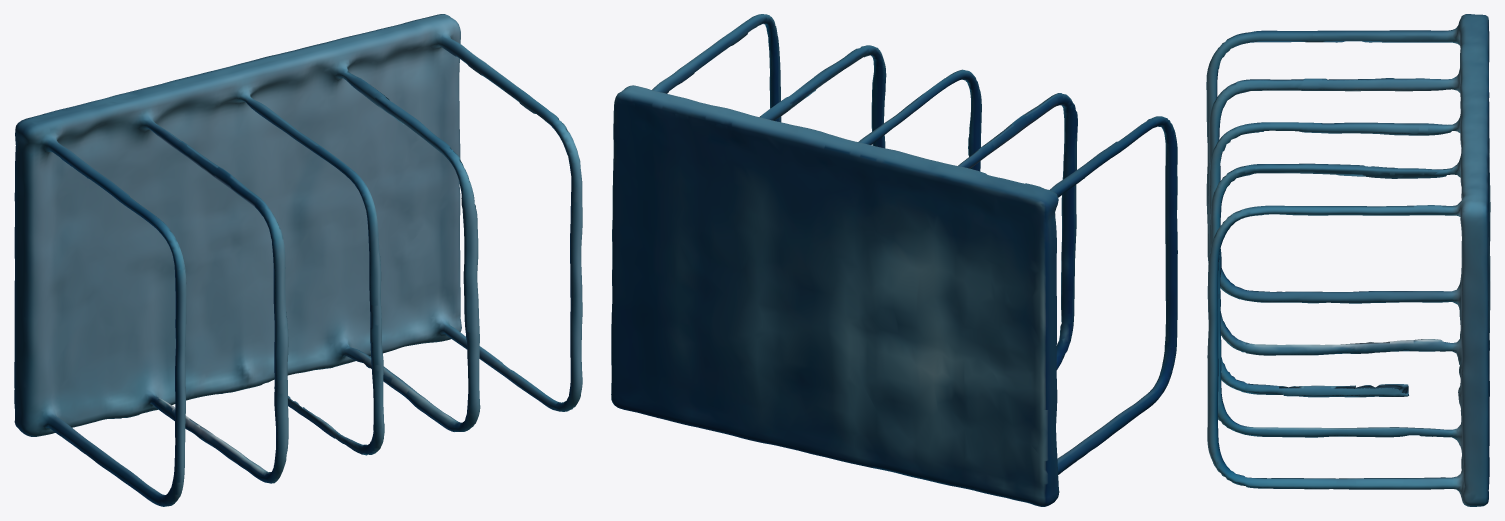
Rendered from sorter.glb.
3 renders of one model, left to right at view 1: azimuth 30°, elevation 25°; view 2: azimuth 150°, elevation 25°; view 3: azimuth 270°, elevation 25°, orthographic. The views are drawn at different scales.
Size of the model in its own units: 0.9994 by 0.6949 by 0.5912.
